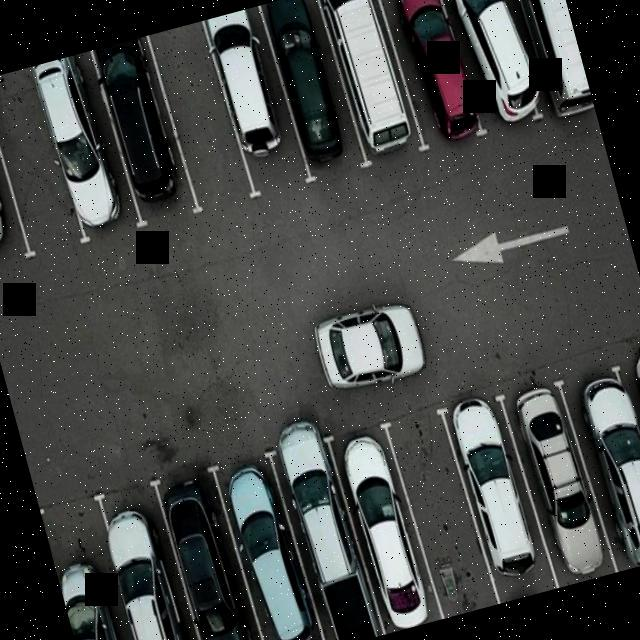car: (498, 376, 618, 590), (442, 390, 560, 604), (268, 436, 384, 640), (330, 424, 440, 634), (211, 447, 328, 640), (34, 48, 148, 244), (149, 461, 273, 640), (92, 34, 202, 230), (204, 4, 312, 202), (265, 0, 372, 188), (93, 470, 210, 640), (317, 0, 426, 166), (376, 0, 485, 153), (562, 365, 640, 573), (432, 0, 544, 141), (40, 495, 148, 640), (490, 0, 592, 116), (0, 79, 30, 273), (617, 355, 640, 558)
free: (383, 403, 499, 620), (150, 19, 256, 221), (0, 64, 84, 252)
